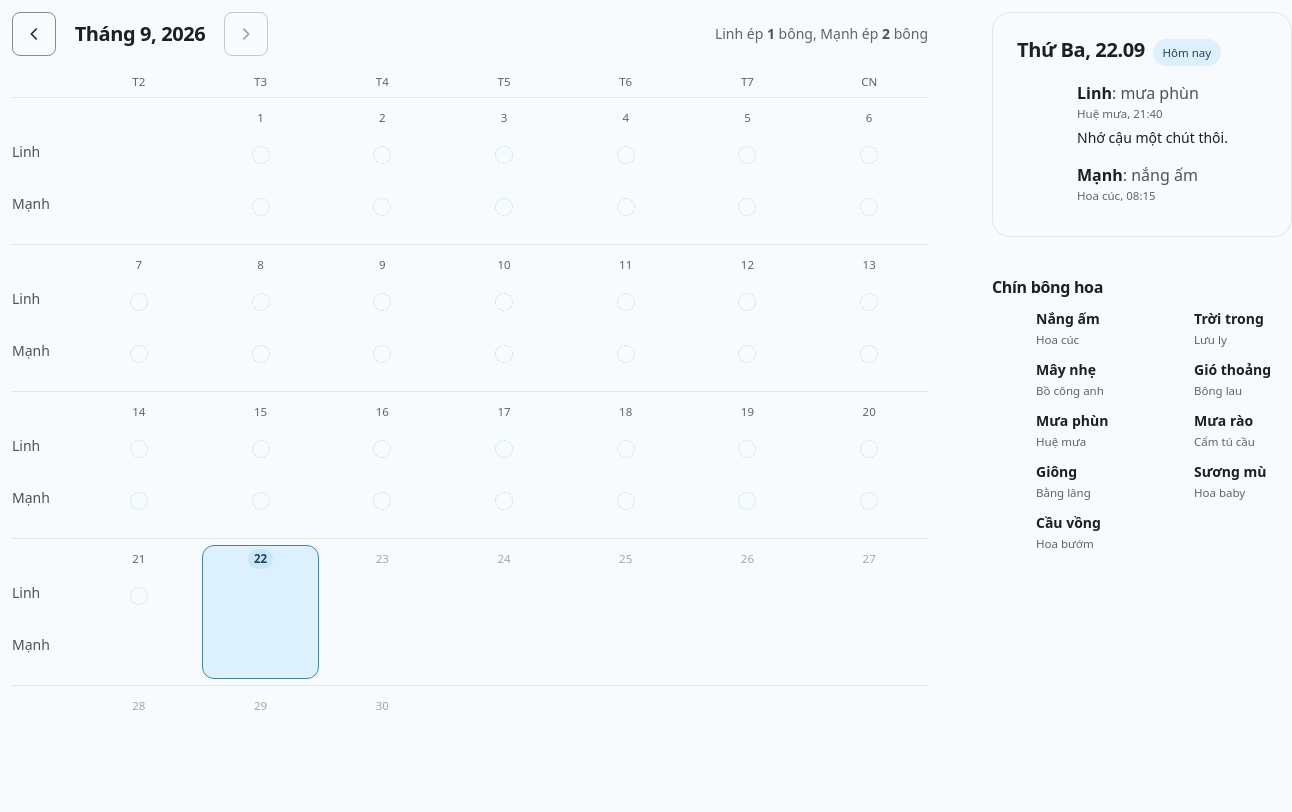
Test case: LichHoa: o ngay › bam mot ngay: khung chi tiet doi theo, chip Hom nay chi o hom nay
The width and height of the screenshot is (1292, 812).
Expected: the heading "Thứ Ba, 22.09" is shown, [1017, 37, 1145, 63]
Expected: the text with class "chip" reads "Hôm nay", [1162, 45, 1211, 60]
Click the button named "21 tháng 9".
click(139, 612)  # box [80, 545, 198, 679]
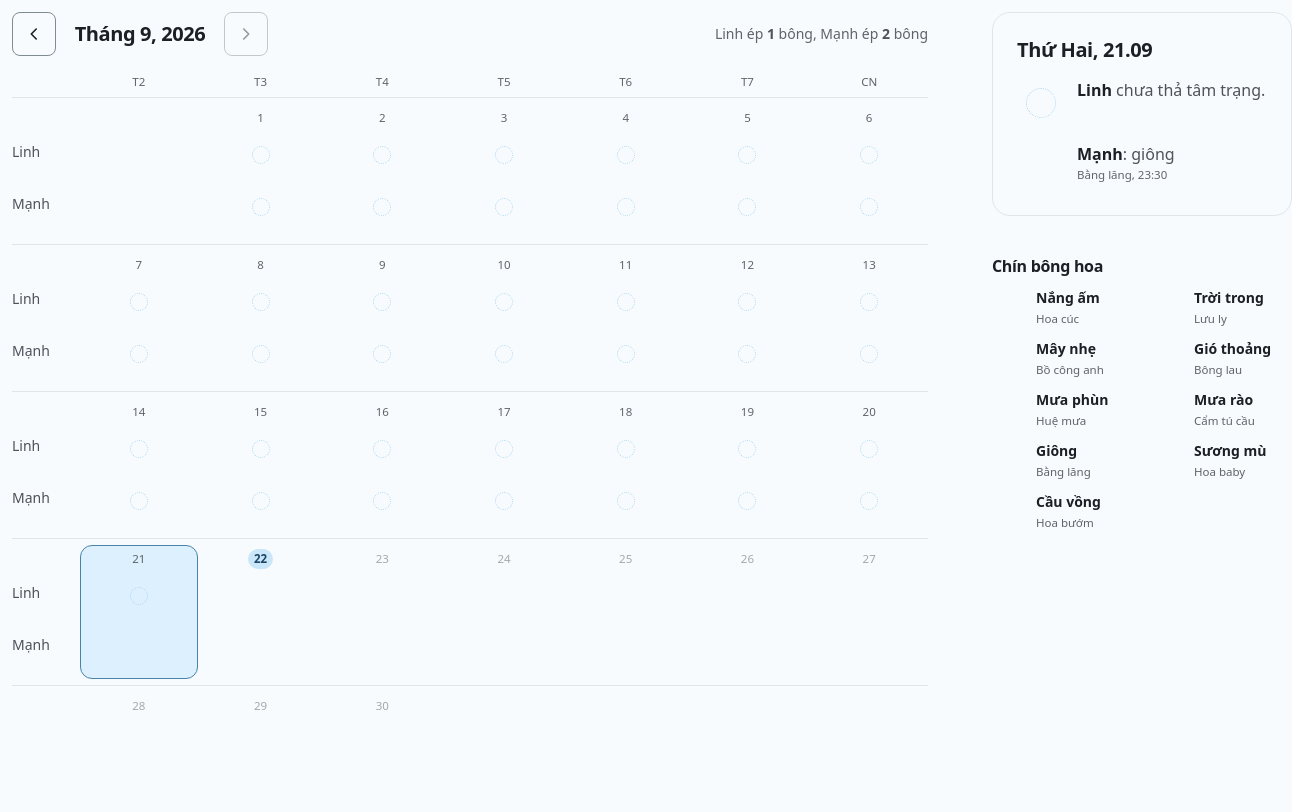
Expected: the heading "Thứ Hai, 21.09" is shown, [1017, 37, 1152, 63]
Expected: the text with class "chip" is gone
